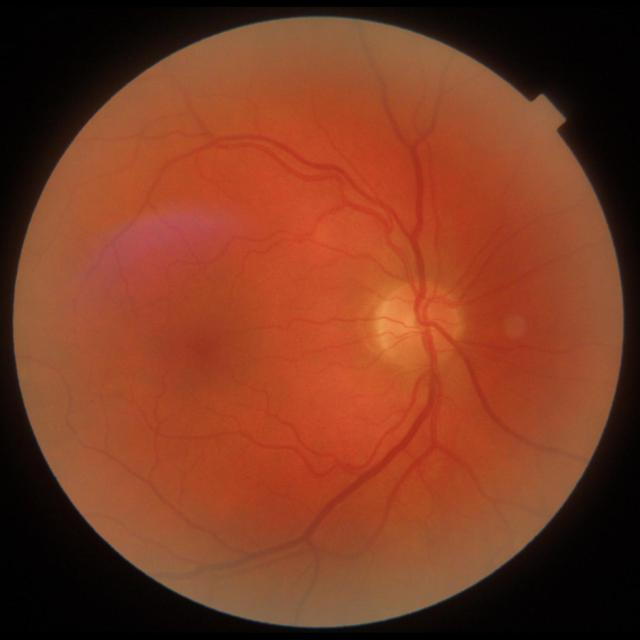OD: (378, 280, 467, 368)
